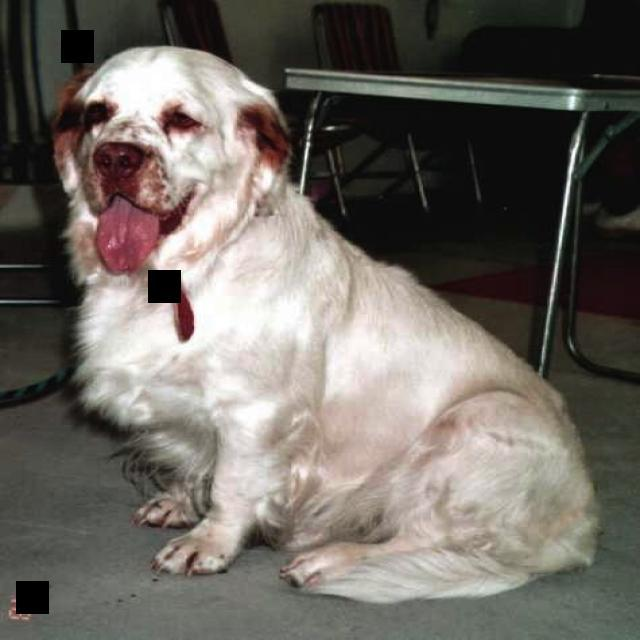adult_dog: (44, 46, 603, 607)
